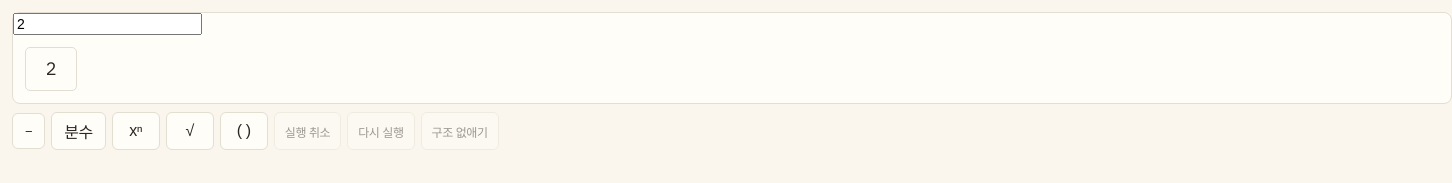
Test: editing the visible answer itself › keeps IME composition intact and undoes it as one edit
Replace the text in the field named "나의 답" with "2ㄱ": (108, 24) [13,13,202,35]
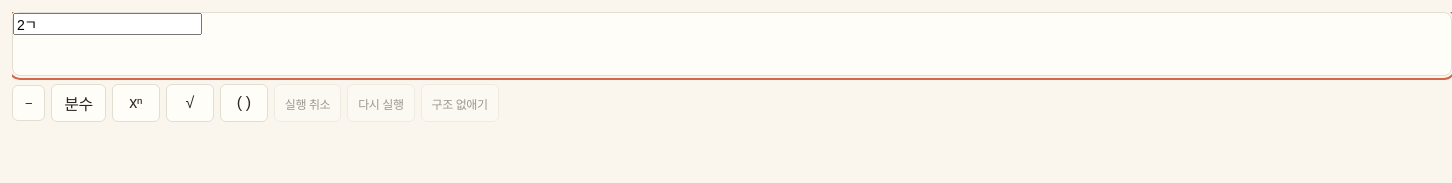
Replace the text in the field named "나의 답" with "2가": (108, 24) [13,13,202,35]
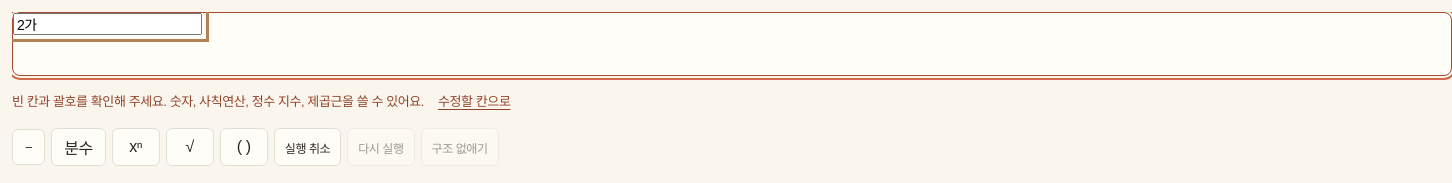
Click the button "실행 취소": (308, 147) [274,128,341,166]
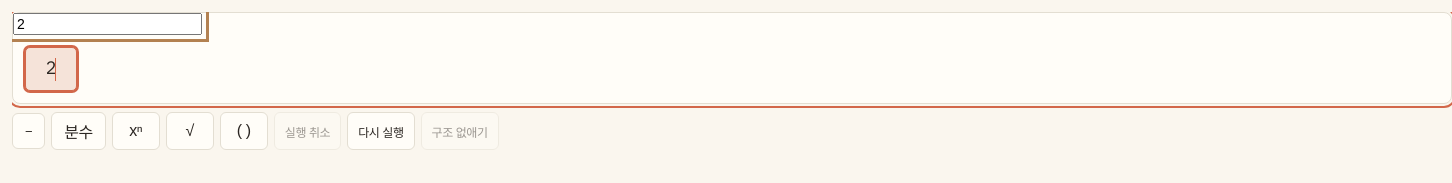
expect the field named "나의 답" holds "2": met, box [13,13,202,35]
